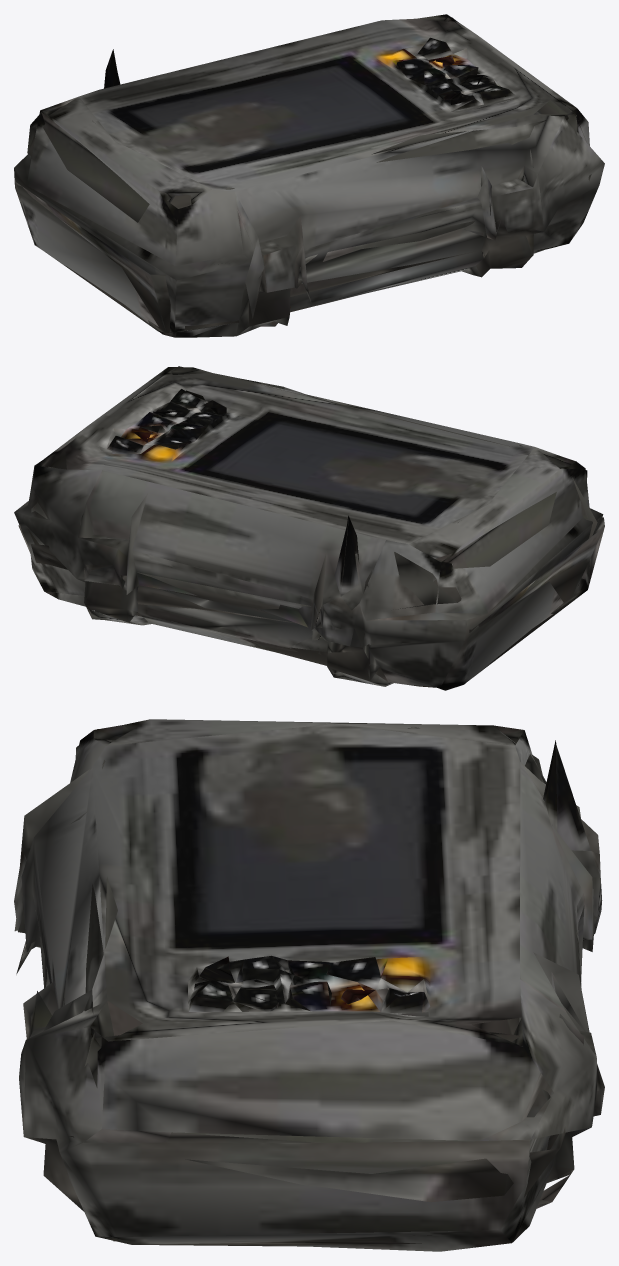
File: device.glb
3 renders of one model, top to bottom at view 1: azimuth 30°, elevation 25°; view 2: azimuth 150°, elevation 25°; view 3: azimuth 270°, elevation 25°, orthographic. The views are drawn at different scales.
Visible parts, largest first — view 1: geometry_0; view 2: geometry_0; view 3: geometry_0.
Part boxes in pixels (left/top/right/bottom): geometry_0: left=14, top=14, right=604, bottom=337; geometry_0: left=14, top=366, right=604, bottom=690; geometry_0: left=14, top=719, right=604, bottom=1251.
Bounding box in the file's own units: 40 × 14.97 × 28.33.
1 material, 1 textured.
